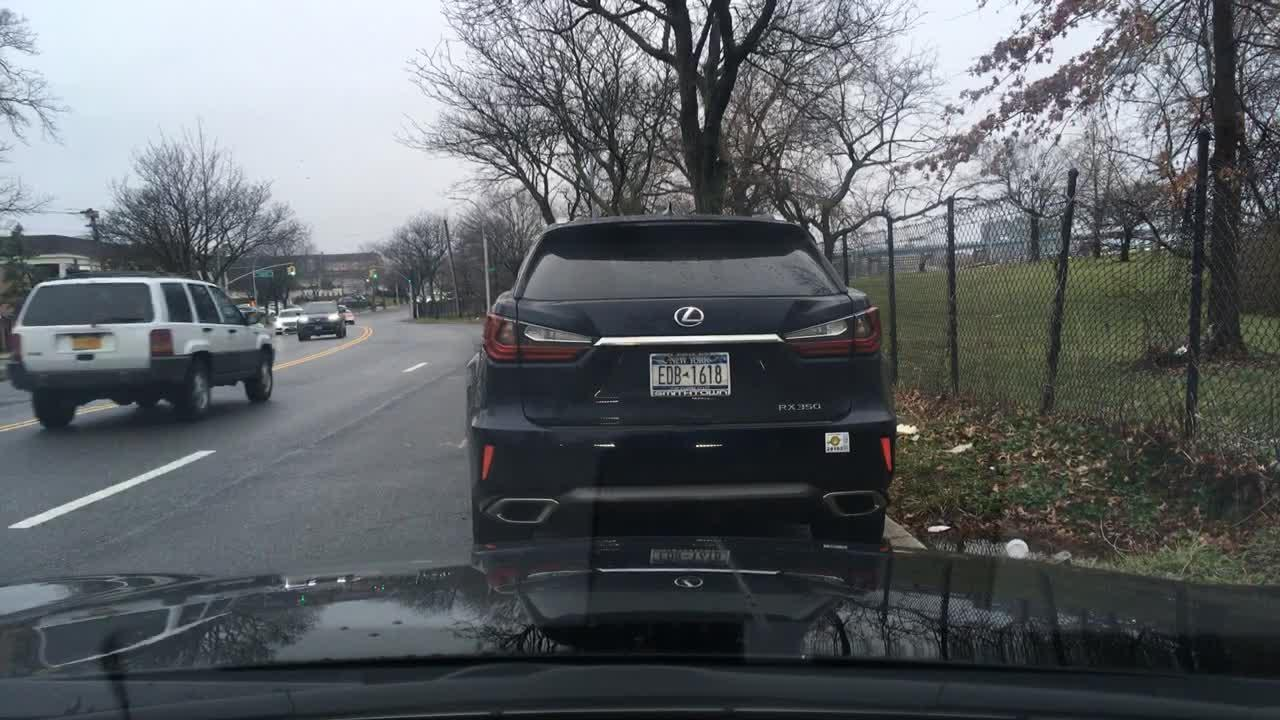lexus: (672, 298, 712, 334)
